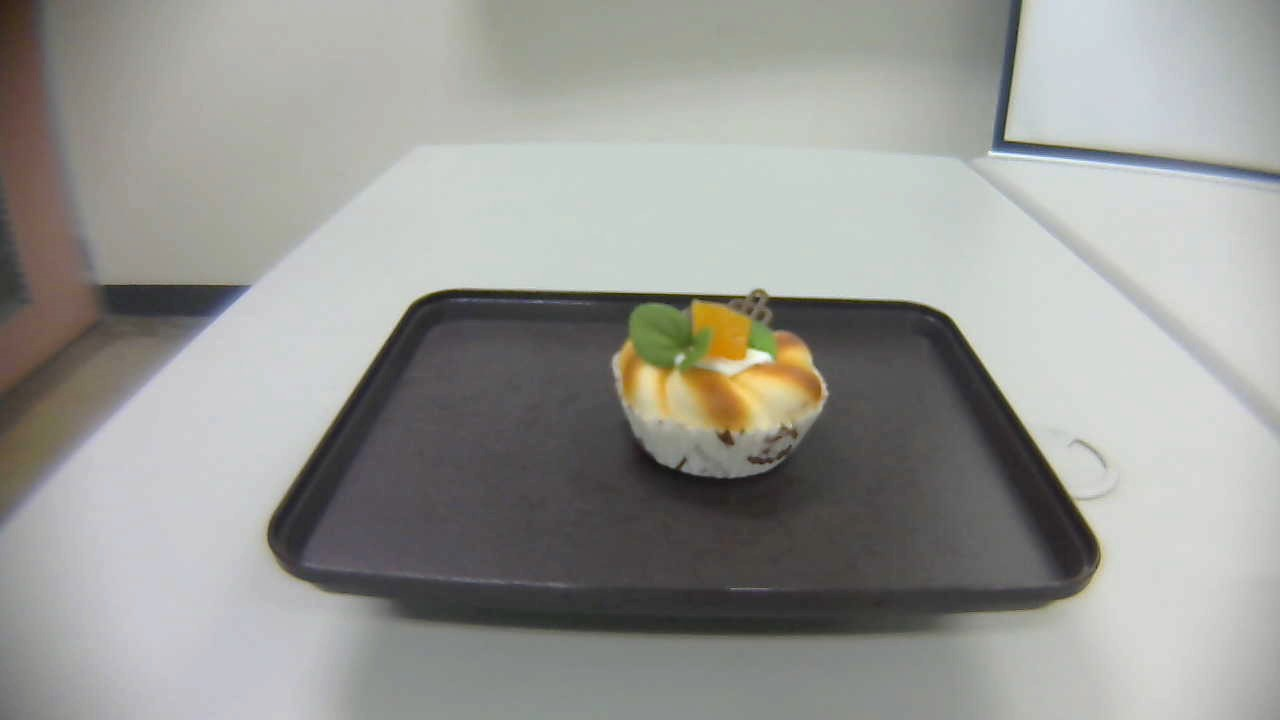fruit tart: (613, 289, 829, 480)
